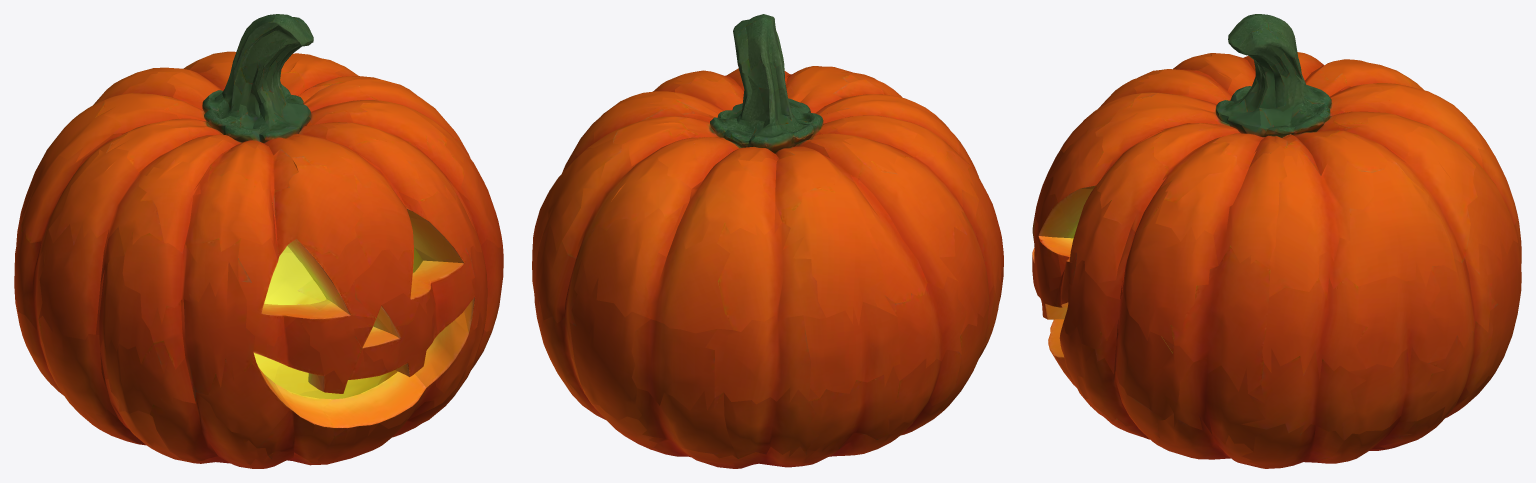
Rendered from pumpkin.glb.
3 renders of one model, left to right at view 1: azimuth 30°, elevation 25°; view 2: azimuth 150°, elevation 25°; view 3: azimuth 270°, elevation 25°, orthographic. The views are drawn at different scales.
Bounding box in the file's own units: 1 × 0.9158 × 0.9954.
Materials: 1 (1 with a texture image).
